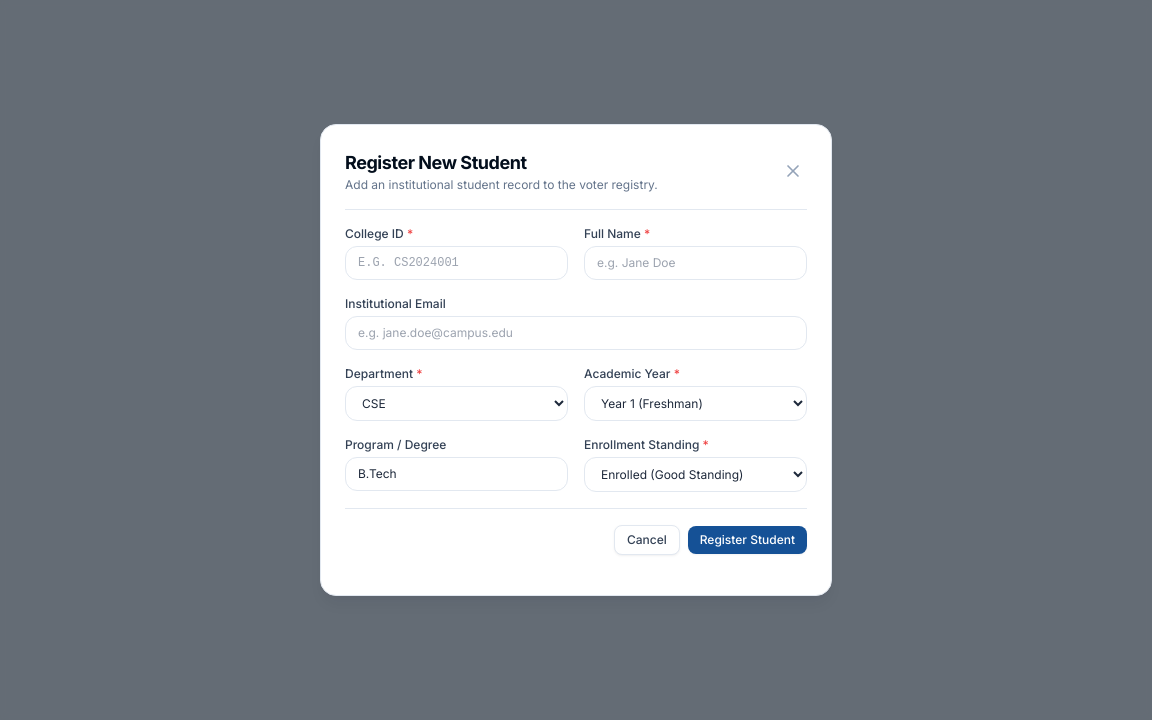
Scenario: Student Form Modal Component › validates email format
In the field labelled "Institutional Email": [576, 333] box [345,316,807,350], type "invalid-email-address"
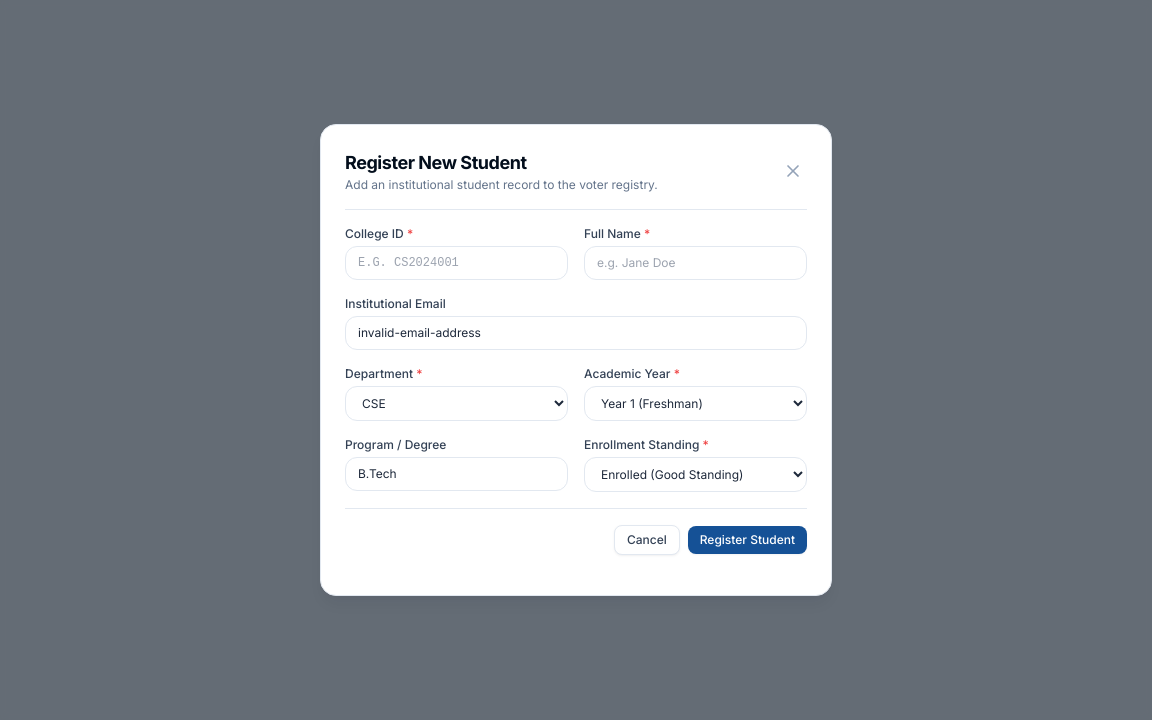
Click the button "Register Student": [747, 540] box [688,526,807,554]
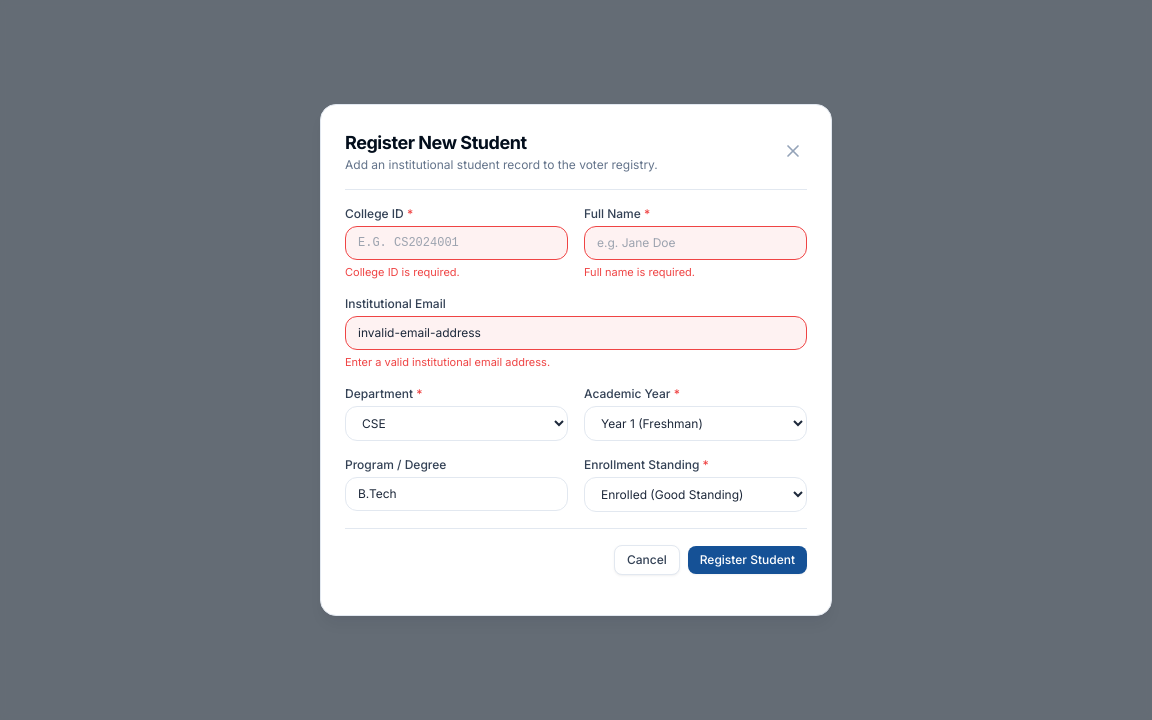
Result: the text "Enter a valid institutional email address." is shown at [345,355,550,369]
